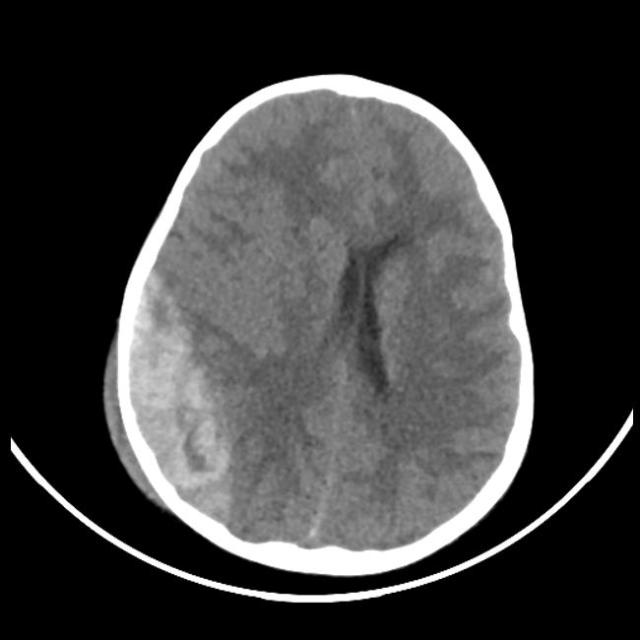lesion: (104, 75, 536, 558)
